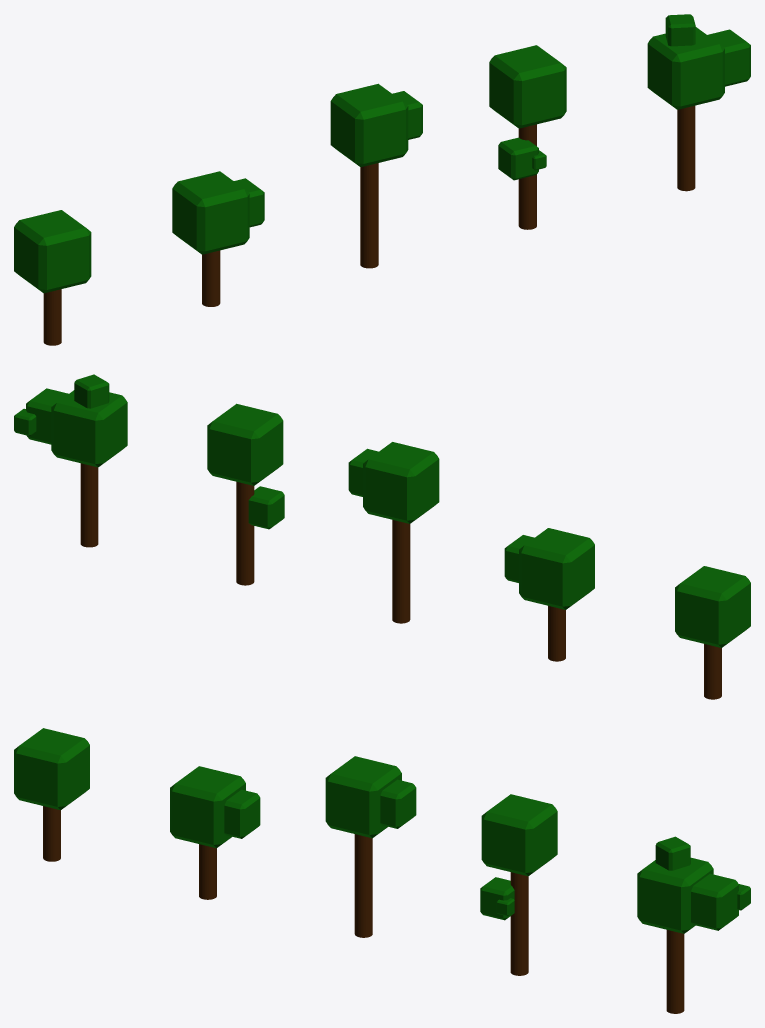
File: goodTrees.fbx
The picture shows the model from 3 angles, top to bottom: view 1: azimuth 30°, elevation 25°; view 2: azimuth 150°, elevation 25°; view 3: azimuth 330°, elevation 25°; orthographic projection.
Visible parts, largest first — view 1: Circle.004, Circle.003, Circle.002, Circle.001, Circle; view 2: Circle.004, Circle.003, Circle.002, Circle.001, Circle; view 3: Circle.004, Circle.003, Circle.002, Circle.001, Circle.
Boxes of the visible parts, x1,y1,x2,y2 form: Circle.004: [647, 14, 750, 191]; Circle.003: [489, 45, 566, 229]; Circle.002: [330, 83, 422, 268]; Circle.001: [172, 171, 264, 306]; Circle: [14, 210, 91, 345]; Circle.004: [14, 374, 127, 547]; Circle.003: [207, 403, 284, 585]; Circle.002: [348, 442, 439, 623]; Circle.001: [504, 528, 594, 661]; Circle: [675, 566, 750, 699]; Circle.004: [637, 836, 750, 1013]; Circle.003: [480, 794, 557, 975]; Circle.002: [325, 756, 416, 937]; Circle.001: [170, 766, 260, 899]; Circle: [14, 728, 89, 861].
Size of the model in its own units: 9104 by 2024 by 708.
